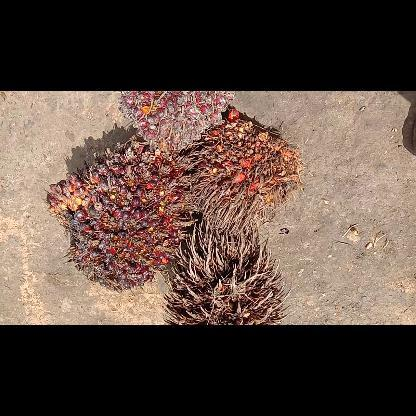Janjang kosong: (163, 222, 293, 324)
Kurang masak: (115, 91, 237, 151)
TBS masak: (42, 133, 196, 293)
Terlalu masak: (184, 106, 304, 234)
